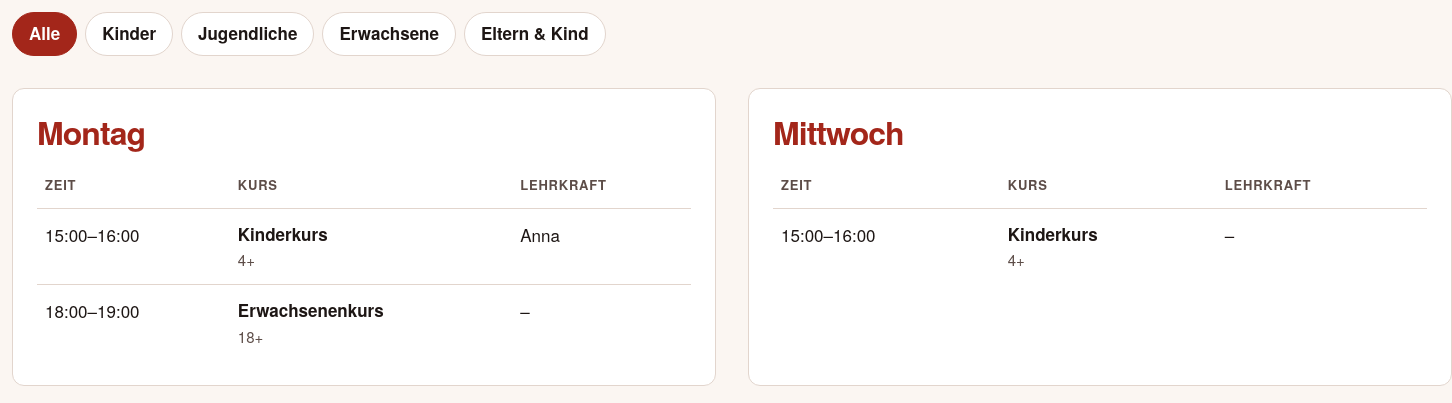
Test: <ScheduleView> › filters by audience
The width and height of the screenshot is (1452, 403).
Click the button "Erwachsene" at (389, 34), box top-left (322, 12), bottom-right (456, 56)
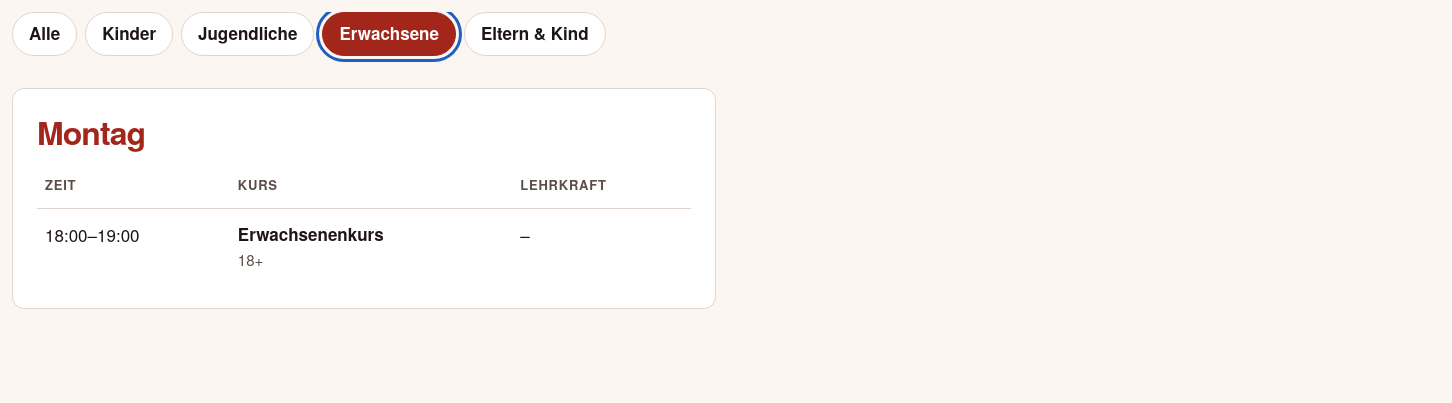
Now the column heading "Kinderkurs" is gone
Now the heading "Mittwoch" is gone
